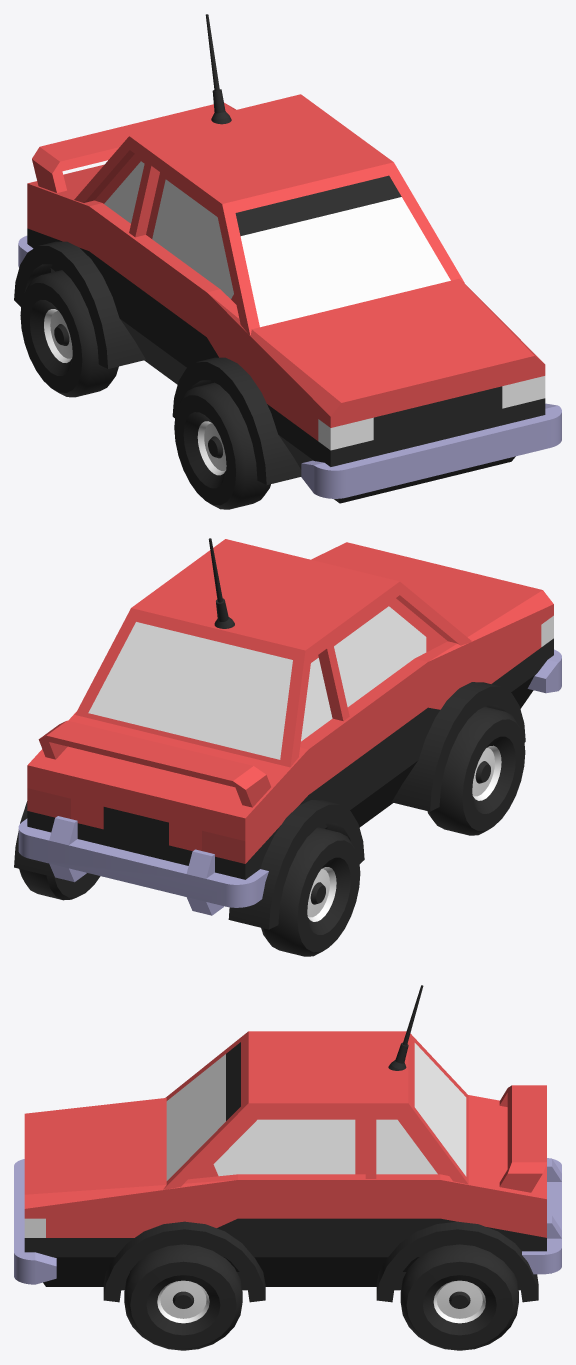
The model's file is StandardCar.fbx.
3 renders of one model, top to bottom at view 1: azimuth 30°, elevation 25°; view 2: azimuth 150°, elevation 25°; view 3: azimuth 270°, elevation 25°, orthographic. The views are drawn at different scales.
Visible parts, largest first — view 1: body_topStandard, body_frontLarge, wheel_small (×2), wheel_coverStandard (×2), body_backStandard, bumper, body_standard, body_topBackStandard, spoiler_small, detail_antenna; view 2: body_topBackStandard, body_backStandard, body_topStandard, wheel_small (×3), body_frontLarge, wheel_coverStandard (×3), body_standard, bumper_detailed, spoiler_small, bumper, detail_antenna; view 3: body_topStandard, body_frontLarge, wheel_small (×2), body_backStandard, body_standard, body_topBackStandard, wheel_coverStandard (×2), spoiler_small, bumper, bumper_detailed, detail_antenna.
Part boxes in pixels (x1=…): body_topStandard: x1=129, y1=108, x2=464, y2=335; body_frontLarge: x1=207, y1=279, x2=545, y2=503; wheel_small (×2): x1=20, y1=270, x2=270, y2=509; wheel_coverStandard (×2): x1=14, y1=241, x2=301, y2=484; body_backStandard: x1=27, y1=164, x2=163, y2=361; bumper: x1=301, y1=403, x2=561, y2=498; body_standard: x1=89, y1=205, x2=219, y2=384; body_topBackStandard: x1=74, y1=94, x2=318, y2=223; spoiler_small: x1=32, y1=102, x2=236, y2=192; detail_antenna: x1=205, y1=14, x2=231, y2=124; body_topBackStandard: x1=75, y1=591, x2=332, y2=767; body_backStandard: x1=27, y1=700, x2=371, y2=879; body_topStandard: x1=150, y1=539, x2=471, y2=721; wheel_small (×3): x1=19, y1=707, x2=525, y2=956; body_frontLarge: x1=311, y1=542, x2=553, y2=732; wheel_coverStandard (×3): x1=14, y1=682, x2=525, y2=929; body_standard: x1=302, y1=658, x2=427, y2=828; bumper_detailed: x1=18, y1=816, x2=268, y2=915; spoiler_small: x1=38, y1=720, x2=270, y2=807; bumper: x1=527, y1=649, x2=561, y2=693; detail_antenna: x1=208, y1=538, x2=234, y2=628; body_topStandard: x1=163, y1=1031, x2=376, y2=1189; body_frontLarge: x1=24, y1=1098, x2=237, y2=1286; wheel_small (×2): x1=124, y1=1244, x2=518, y2=1350; body_backStandard: x1=334, y1=1095, x2=546, y2=1286; body_standard: x1=238, y1=1174, x2=440, y2=1286; body_topBackStandard: x1=365, y1=1031, x2=468, y2=1184; wheel_coverStandard (×2): x1=103, y1=1221, x2=538, y2=1302; spoiler_small: x1=499, y1=1085, x2=546, y2=1192; bumper: x1=14, y1=1159, x2=56, y2=1284; bumper_detailed: x1=522, y1=1158, x2=561, y2=1274; detail_antenna: x1=388, y1=985, x2=423, y2=1070.
Bounding box in the file's own units: 0.1296 × 0.1606 × 0.257.
